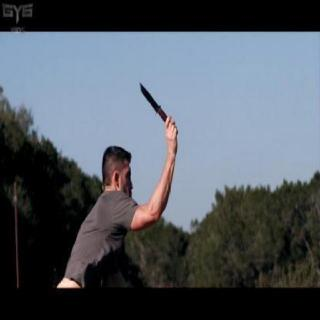knife: (137, 76, 180, 142)
